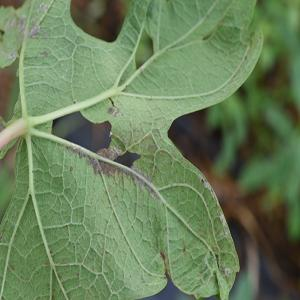Folha: (0, 0, 263, 298)
Fungo: (51, 108, 160, 202), (88, 146, 159, 200), (51, 110, 112, 158), (87, 146, 121, 176), (134, 27, 154, 70), (59, 142, 87, 159), (106, 96, 125, 118), (96, 146, 117, 162), (28, 17, 41, 38), (220, 262, 230, 278), (36, 1, 48, 14), (107, 106, 119, 116), (182, 239, 187, 255), (108, 96, 114, 107), (40, 50, 48, 58), (107, 106, 114, 114), (109, 130, 112, 138), (70, 165, 73, 172)
